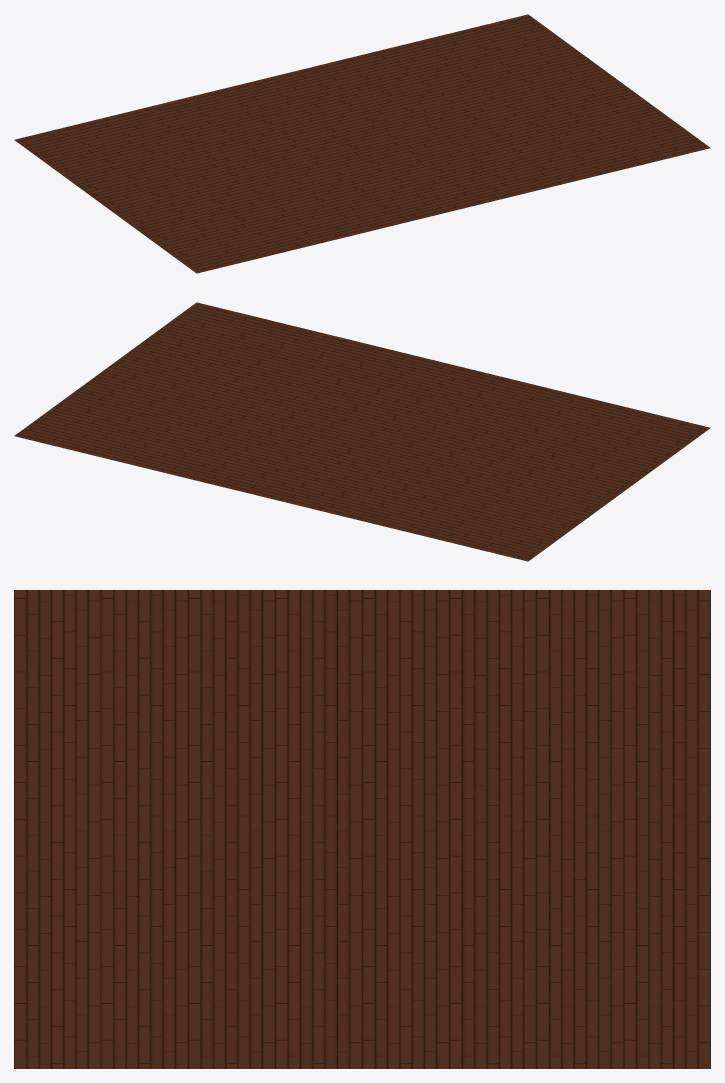
The model's file is Stage1_Floor.fbx.
3 renders of one model, top to bottom at view 1: azimuth 30°, elevation 25°; view 2: azimuth 150°, elevation 25°; view 3: azimuth 270°, elevation 25°, orthographic. The views are drawn at different scales.
Visible parts, largest first — view 1: Floor_v5.001; view 2: Floor_v5.001; view 3: Floor_v5.001.
Part boxes in pixels (left/top/right/bottom): Floor_v5.001: left=14, top=14, right=710, bottom=273; Floor_v5.001: left=14, top=302, right=710, bottom=561; Floor_v5.001: left=14, top=590, right=710, bottom=1068.
Size of the model in its own units: 3900 by 0 by 2400.
